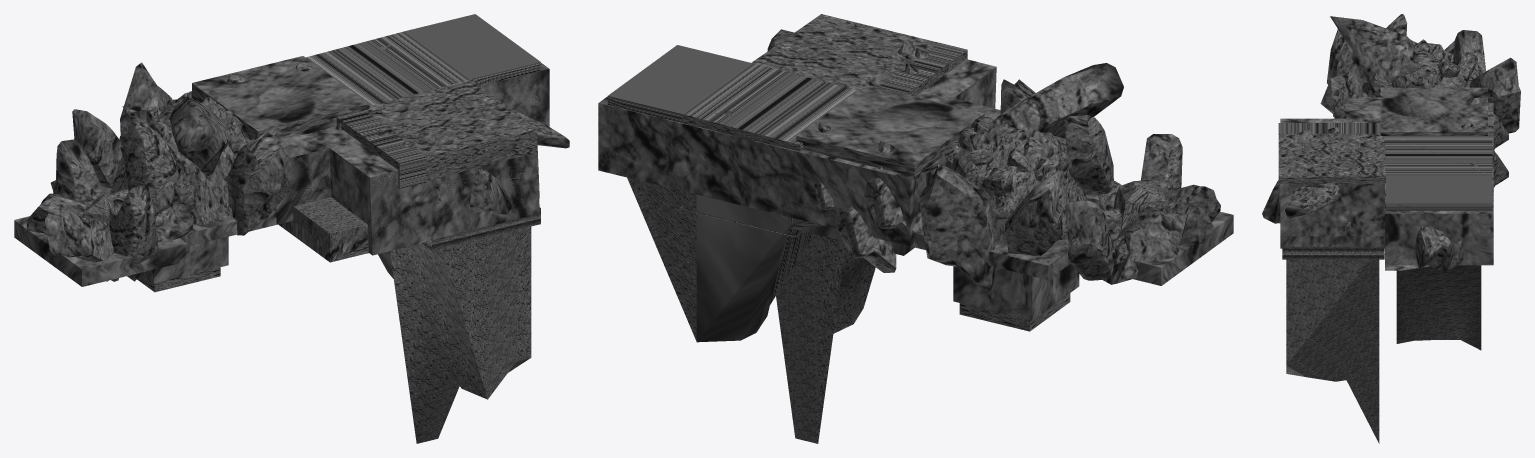
The model's file is main_world_v2.glb.
3 views of the same model, side by side, from view 1: azimuth 30°, elevation 25°; view 2: azimuth 150°, elevation 25°; view 3: azimuth 270°, elevation 25° (orthographic). The views are drawn at different scales.
Parts seen in each view (by area): view 1: youximouxing_low(3), 立方体.001, 立方体; view 2: youximouxing_low(3), 立方体.001, 立方体; view 3: youximouxing_low(3), 立方体.001, 立方体.
Boxes of the visible parts, left/top/right/bottom form: youximouxing_low(3): left=14, top=43, right=569, bottom=443; 立方体.001: left=306, top=14, right=540, bottom=188; 立方体: left=192, top=56, right=369, bottom=139; youximouxing_low(3): left=598, top=29, right=1233, bottom=443; 立方体.001: left=607, top=14, right=967, bottom=151; 立方体: left=796, top=84, right=984, bottom=180; youximouxing_low(3): left=1262, top=14, right=1520, bottom=443; 立方体.001: left=1278, top=123, right=1492, bottom=210; 立方体: left=1380, top=87, right=1487, bottom=135.
Size of the model in its own units: 16.82 by 11.99 by 8.72.
Materials: 1 (1 with a texture image).
